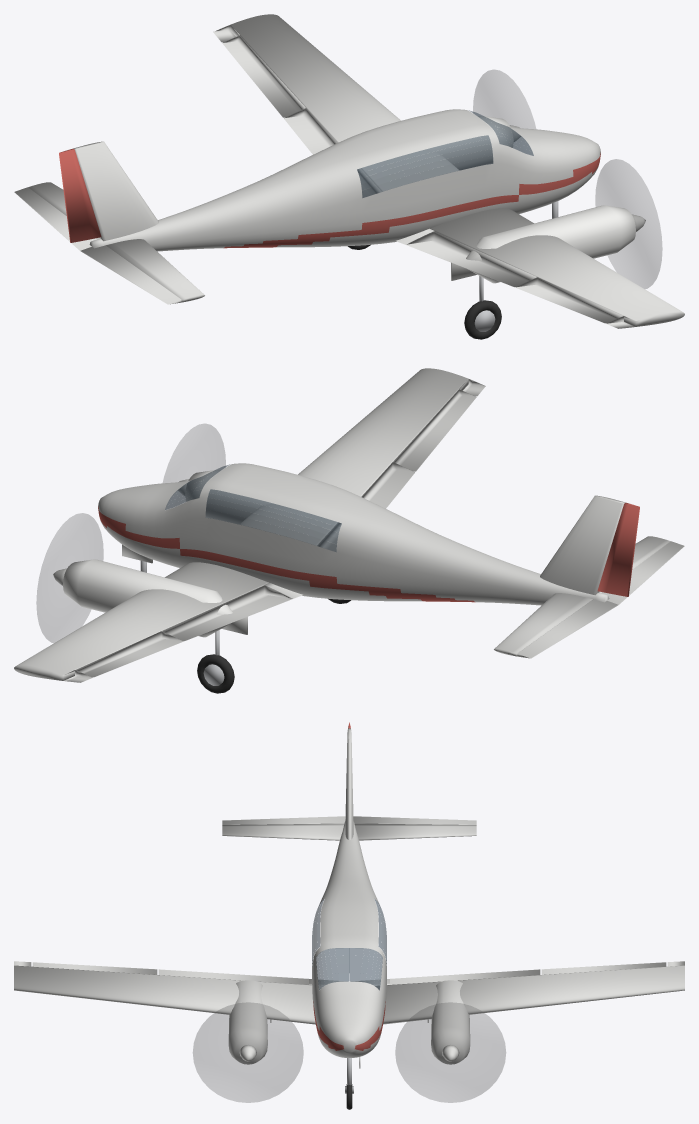
The model's file is duet_lod0.glb.
3 renders of one model, top to bottom at view 1: azimuth 30°, elevation 25°; view 2: azimuth 150°, elevation 25°; view 3: azimuth 270°, elevation 25°, orthographic. The views are drawn at different scales.
Parts seen in each view (by area): view 1: fuselage, wing_L, wing_R, prop_2_disc, glass, fin, nacelle_2, stabilizer, elevator, prop_1_disc, flap_R_1, rudder (+5 smaller); view 2: fuselage, wing_R, wing_L, prop_1_disc, glass, fin, nacelle_1, stabilizer, elevator, prop_2_disc, flap_L_1, rudder (+5 smaller); view 3: fuselage, wing_L, wing_R, prop_1_disc, prop_2_disc, stabilizer, glass, nacelle_1, nacelle_2, elevator, flap_L_1, flap_R_1 (+3 smaller).
Boxes of the visible parts, bbox=[...] form: fuselage: bbox=[89, 109, 600, 251]; wing_L: bbox=[213, 14, 459, 191]; wing_R: bbox=[396, 208, 684, 328]; prop_2_disc: bbox=[595, 159, 662, 288]; glass: bbox=[357, 110, 533, 197]; fin: bbox=[73, 141, 158, 241]; nacelle_2: bbox=[466, 205, 635, 283]; stabilizer: bbox=[28, 182, 204, 302]; elevator: bbox=[14, 187, 181, 304]; prop_1_disc: bbox=[473, 70, 535, 155]; flap_R_1: bbox=[406, 231, 536, 287]; rudder: bbox=[59, 148, 101, 242]; fuselage: bbox=[98, 463, 609, 605]; wing_R: bbox=[239, 368, 485, 545]; wing_L: bbox=[14, 562, 302, 682]; prop_1_disc: bbox=[36, 513, 103, 642]; glass: bbox=[165, 464, 341, 551]; fin: bbox=[540, 495, 625, 595]; nacelle_1: bbox=[63, 559, 232, 637]; stabilizer: bbox=[494, 536, 670, 656]; elevator: bbox=[517, 541, 684, 658]; prop_2_disc: bbox=[163, 424, 225, 509]; flap_L_1: bbox=[162, 585, 292, 641]; rudder: bbox=[597, 502, 639, 596]; fuselage: bbox=[312, 821, 386, 1057]; wing_L: bbox=[351, 961, 684, 1024]; wing_R: bbox=[14, 961, 347, 1024]; prop_1_disc: bbox=[395, 1002, 505, 1102]; prop_2_disc: bbox=[193, 1002, 303, 1102]; stabilizer: bbox=[222, 823, 476, 840]; glass: bbox=[312, 899, 386, 989]; nacelle_1: bbox=[431, 980, 470, 1064]; nacelle_2: bbox=[228, 980, 267, 1064]; elevator: bbox=[222, 816, 476, 824]; flap_L_1: bbox=[390, 969, 540, 984]; flap_R_1: bbox=[158, 969, 308, 984].
Bounding box in the file's own units: 8.9 × 3.63 × 11.6.
